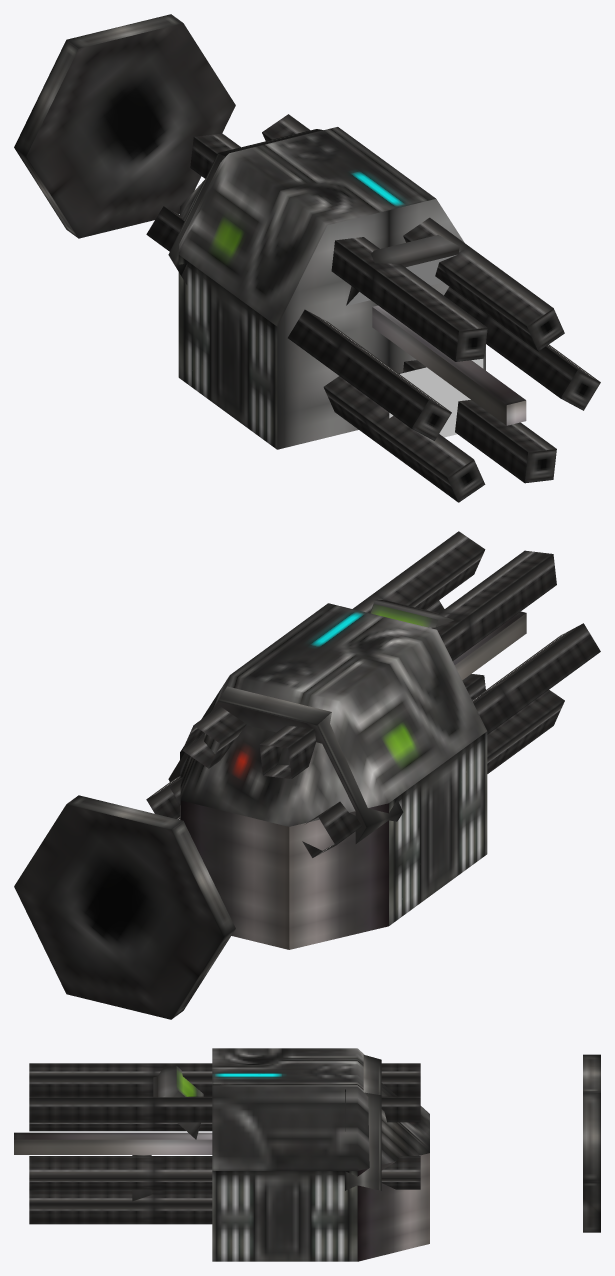
Rendered from wep10.obj.
3 views of the same model, one above another, from view 1: azimuth 30°, elevation 25°; view 2: azimuth 150°, elevation 25°; view 3: azimuth 270°, elevation 25° (orthographic). The views are drawn at different scales.
Parts seen in each view (by area): view 1: frm-wepbas1, frm-wepbar8, frm-wepbar1, frm-wepbar6, frm-wepbar2, frm-wepbar5, frm-wepbar7, frm-wepbar4, frm-wepbar3, frm-wepbas3, frm-wepbas2, frm-wepbar9; view 2: frm-wepbas1, frm-wepbar8, frm-wepbar1, frm-wepbar2, frm-wepbar6, frm-wepbar9, frm-wepbar5, frm-wepbar7, frm-wepbas3, frm-wepbar3; view 3: frm-wepbas1, frm-wepbar3, frm-wepbar1, frm-wepbar4, frm-wepbar2, frm-wepbar7, frm-wepbar8, frm-wepbar9, frm-wepbar6, frm-wepbas3, frm-wepbar5.
Part boxes in pixels (x1,y1,x2,y2): frm-wepbas1: (178, 127, 485, 449); frm-wepbar8: (14, 14, 235, 238); frm-wepbar1: (190, 133, 487, 361); frm-wepbar6: (146, 206, 451, 440); frm-wepbar2: (262, 114, 564, 351); frm-wepbar5: (323, 376, 485, 502); frm-wepbar7: (372, 305, 526, 425); frm-wepbar4: (403, 360, 556, 483); frm-wepbar3: (444, 287, 600, 410); frm-wepbas3: (346, 235, 459, 305); frm-wepbas2: (389, 359, 483, 437); frm-wepbar9: (168, 129, 323, 284); frm-wepbas1: (180, 603, 487, 949); frm-wepbar8: (14, 795, 235, 1019); frm-wepbar1: (259, 550, 556, 778); frm-wepbar2: (182, 531, 485, 768); frm-wepbar6: (302, 623, 600, 857); frm-wepbar9: (168, 686, 403, 843); frm-wepbar5: (487, 690, 564, 773); frm-wepbar7: (453, 611, 526, 680); frm-wepbas3: (370, 599, 453, 661); frm-wepbar3: (146, 600, 444, 819); frm-wepbas1: (212, 1048, 429, 1261); frm-wepbar3: (29, 1156, 420, 1189); frm-wepbar1: (29, 1063, 420, 1096); frm-wepbar4: (29, 1190, 212, 1224); frm-wepbar2: (29, 1096, 420, 1122); frm-wepbar7: (14, 1132, 212, 1154); frm-wepbar8: (583, 1054, 600, 1232); frm-wepbar9: (345, 1055, 381, 1190); frm-wepbar6: (29, 1122, 212, 1131); frm-wepbas3: (153, 1066, 203, 1139); frm-wepbar5: (29, 1189, 211, 1190).
Bounding box in the file's own units: 0.3403 × 0.3106 × 1.06.
